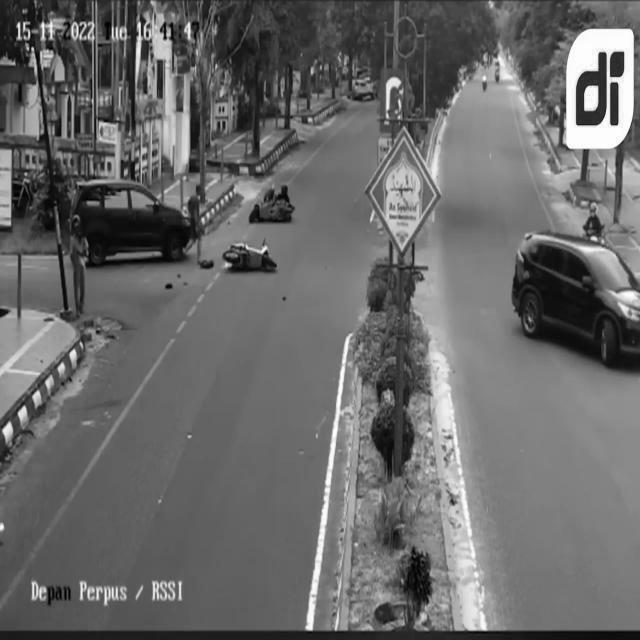accident: (218, 184, 296, 282)
vehicle: (507, 225, 640, 377), (70, 175, 190, 268)
